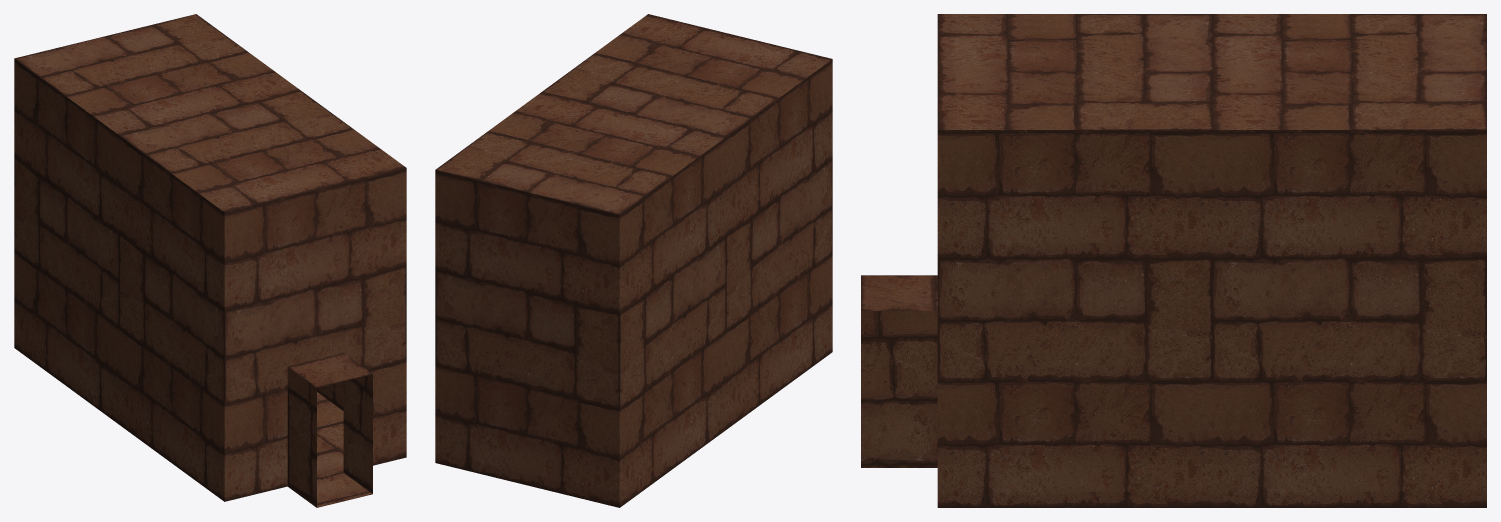
Rendered from Corridor_End_InsideEntrance_1x003.FBX.
3 views of the same model, side by side, from view 1: azimuth 30°, elevation 25°; view 2: azimuth 150°, elevation 25°; view 3: azimuth 270°, elevation 25° (orthographic). The views are drawn at different scales.
Parts seen in each view (by area): view 1: Corridor_End_InsideEntrance_1x003; view 2: Corridor_End_InsideEntrance_1x003; view 3: Corridor_End_InsideEntrance_1x003.
Part boxes in pixels (x1,y1,x2,y2): Corridor_End_InsideEntrance_1x003: (14, 14, 406, 507); Corridor_End_InsideEntrance_1x003: (435, 14, 832, 507); Corridor_End_InsideEntrance_1x003: (861, 14, 1486, 507).
Size of the model in its own units: 66.08 by 100 by 151.
